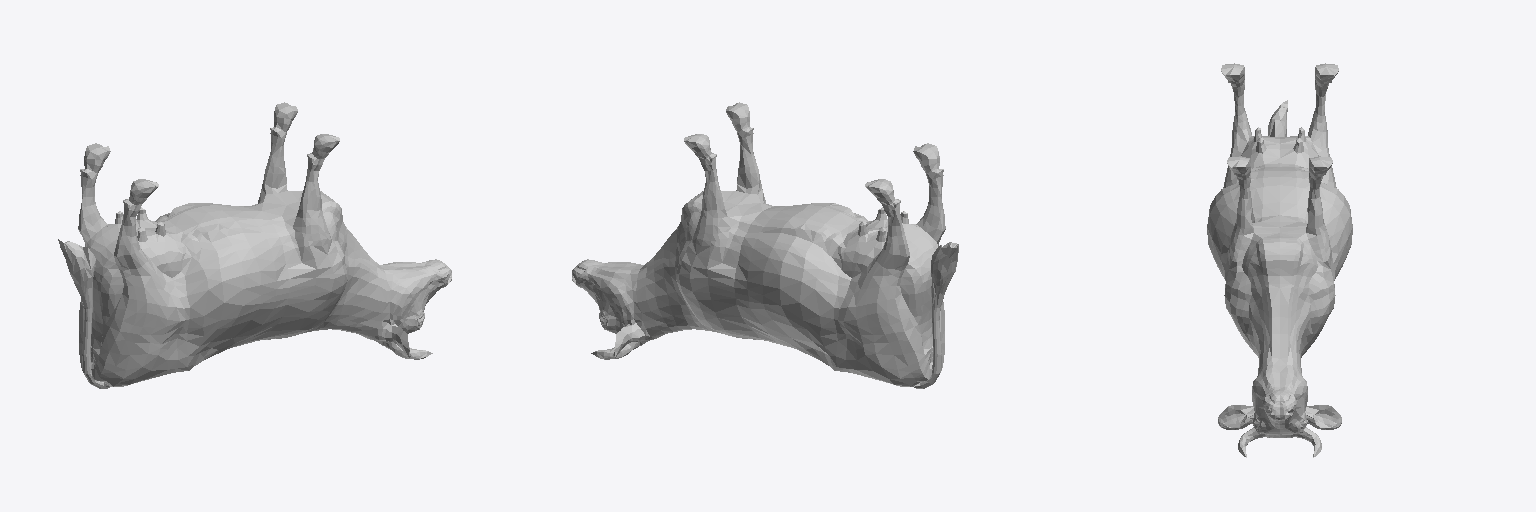
The model's file is cow.obj.
The picture shows the model from 3 angles: view 1: azimuth 30°, elevation 25°; view 2: azimuth 150°, elevation 25°; view 3: azimuth 270°, elevation 25°; orthographic projection.
Visible parts, largest first — view 1: cow; view 2: cow; view 3: cow.
Part boxes in pixels (x1,y1,x2,y2): cow: (58, 102, 451, 388); cow: (572, 102, 958, 388); cow: (1207, 63, 1352, 457).
Size of the model in its own units: 10.44 by 6.4 by 3.4.